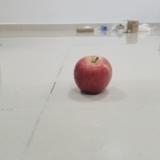apple: (74, 55, 113, 95)
